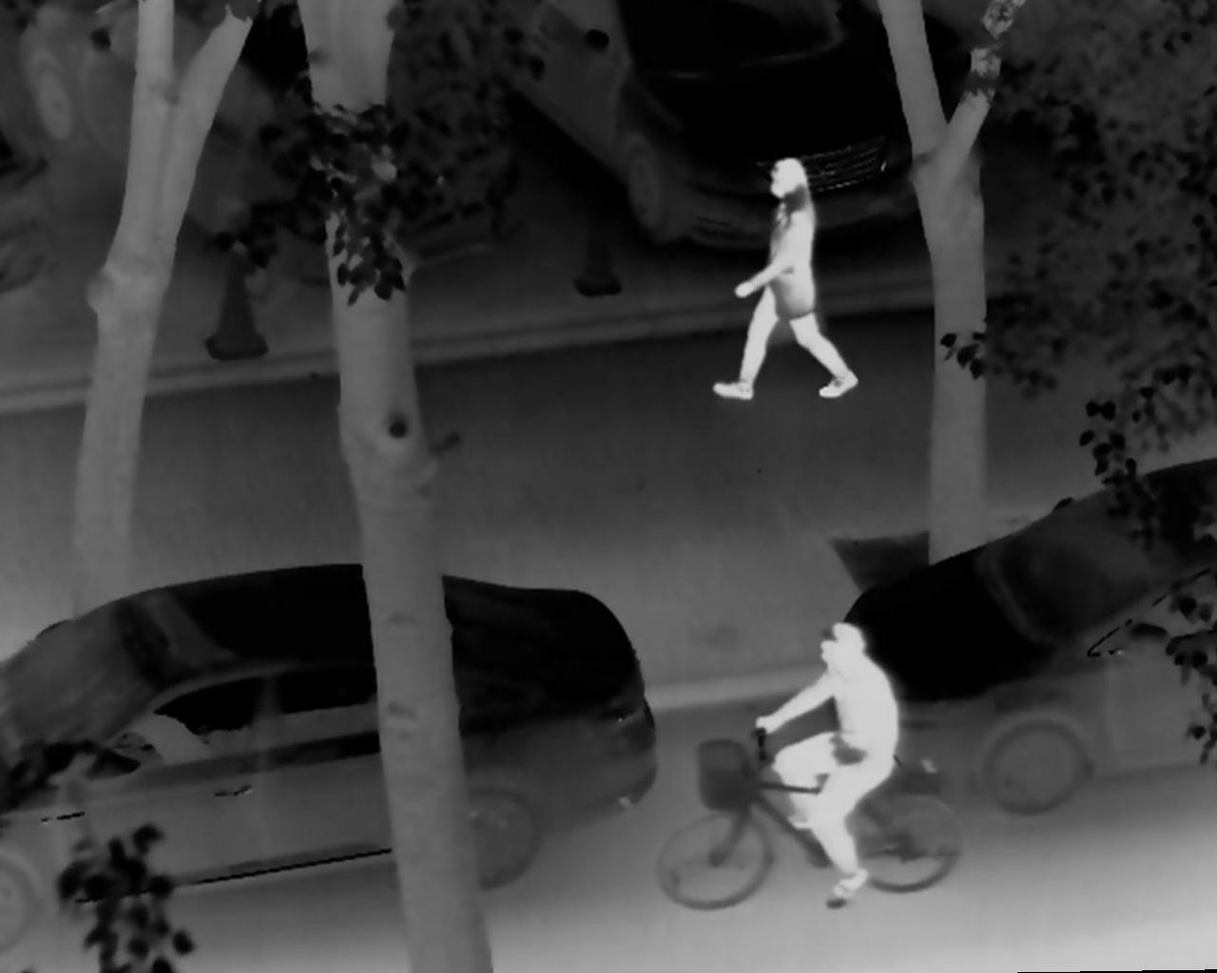person: (756, 619, 904, 906), (704, 156, 865, 410)
